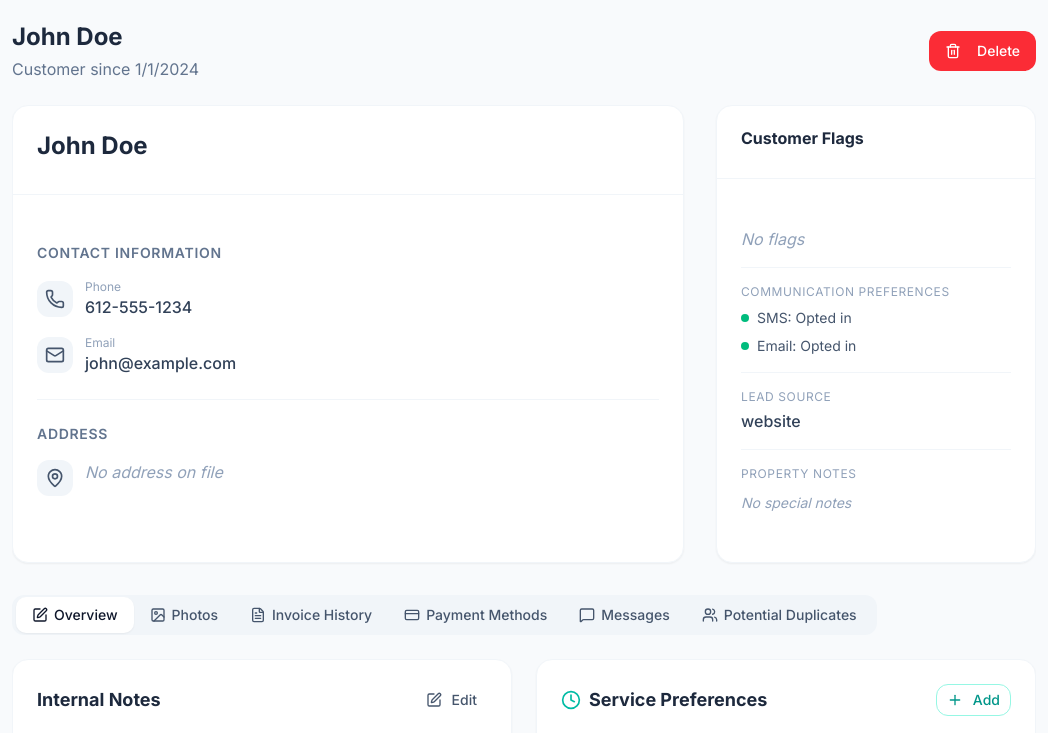
CustomerDetail › switches to Payment Methods tab
Click the tab with test id "tab-payment-methods": (476, 615) [388,597,563,633]
(page scrolled)
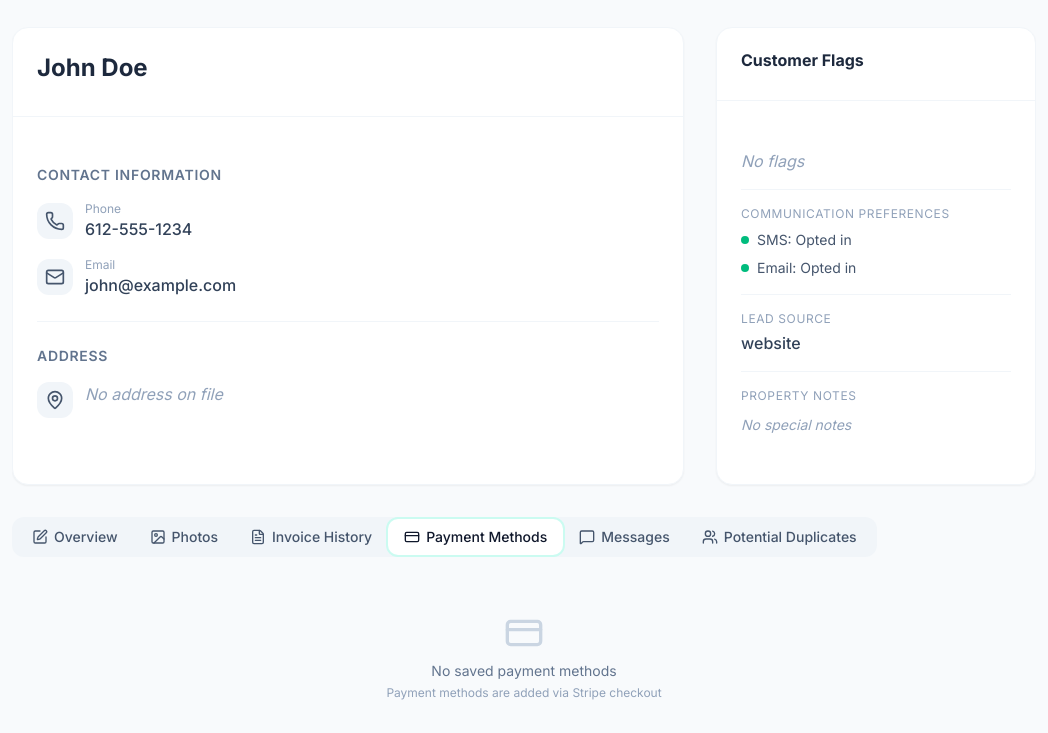
Now the element with test id "payment-methods-empty" is shown, box [386,613,662,700]
